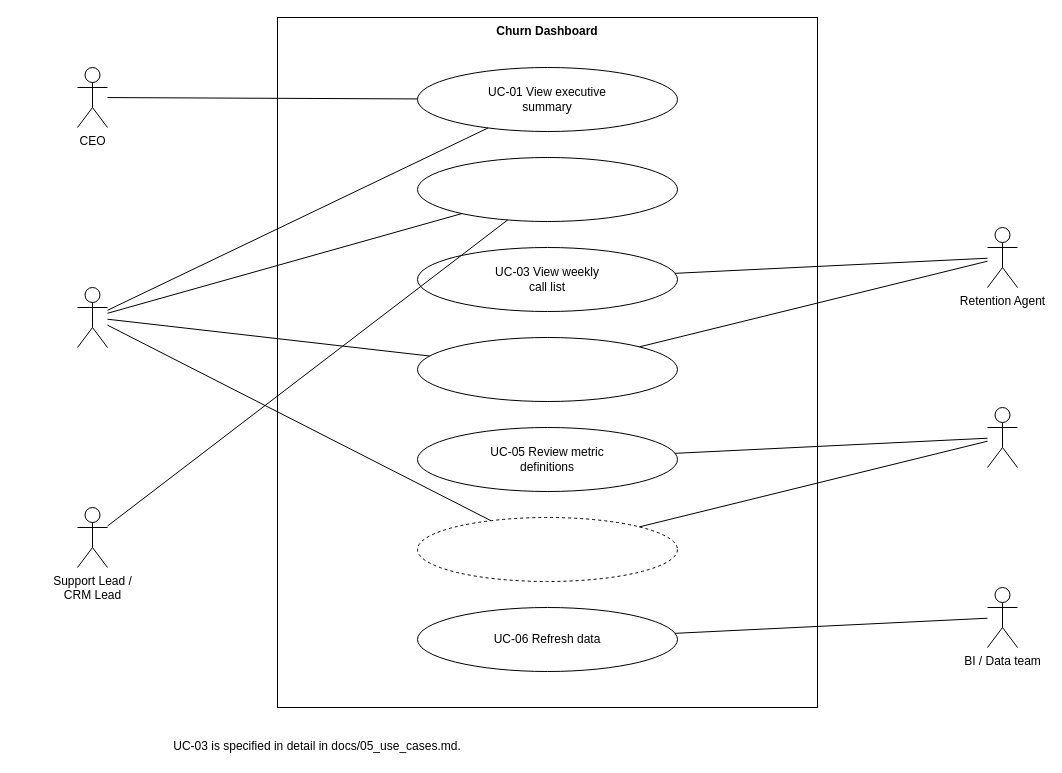
Some shapes in this 1062 by 773 pixel diagram are drawn without their labels. Each missing label, with the centre of its shape:
"Finance Analyst" goes at (1002,437).
"Retention Manager" goes at (92,317).
"UC-02 Analyse churn drivers" goes at (547,189).
"UC-04 Filter by segment" goes at (547,369).
"UC-07 Evaluate retention test (future)" goes at (547,549).
